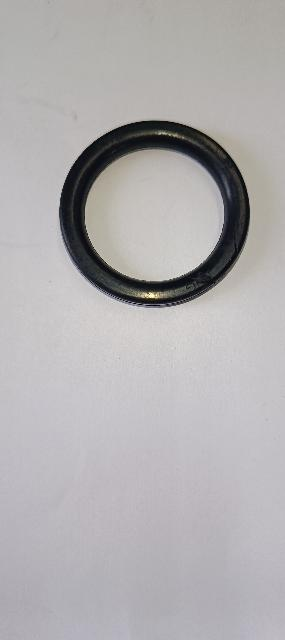4: (183, 269, 222, 288), (219, 154, 239, 174)
scratch: (230, 223, 242, 262)
